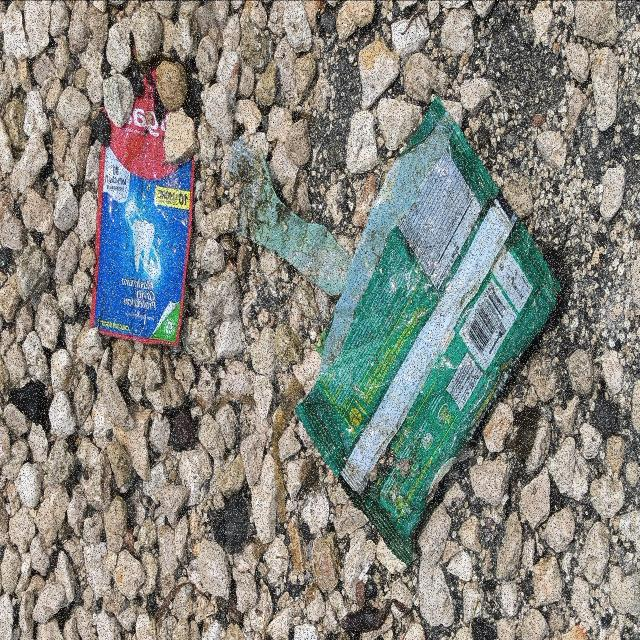plastic_waste: (296, 93, 563, 566), (91, 61, 197, 348)
